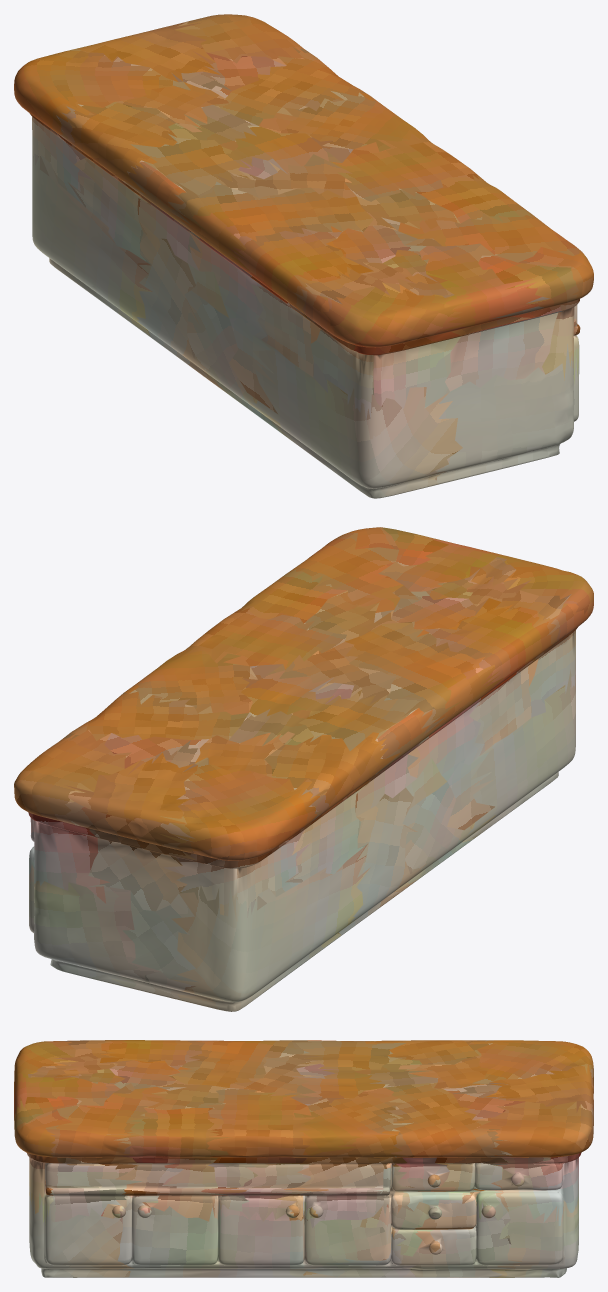
File: KR_사물_s1_station_worktable.glb
3 renders of one model, top to bottom at view 1: azimuth 30°, elevation 25°; view 2: azimuth 150°, elevation 25°; view 3: azimuth 270°, elevation 25°, orthographic. The views are drawn at different scales.
Parts seen in each view (by area): view 1: tripo_node_deb1f86d-042e-4b63-bd03-3abfe8d7f791; view 2: tripo_node_deb1f86d-042e-4b63-bd03-3abfe8d7f791; view 3: tripo_node_deb1f86d-042e-4b63-bd03-3abfe8d7f791.
Part boxes in pixels (bbox=[...]): tripo_node_deb1f86d-042e-4b63-bd03-3abfe8d7f791: bbox=[14, 14, 593, 498]; tripo_node_deb1f86d-042e-4b63-bd03-3abfe8d7f791: bbox=[14, 527, 593, 1011]; tripo_node_deb1f86d-042e-4b63-bd03-3abfe8d7f791: bbox=[14, 1040, 593, 1277].
Size of the model in its own units: 0.4098 by 0.2965 by 1.
1 material, 1 textured.
